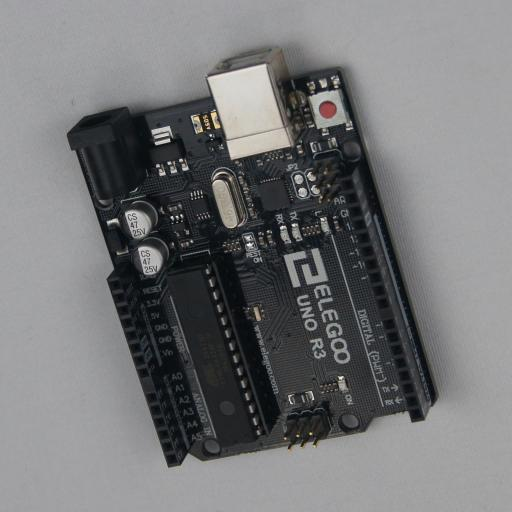Arduino Uno -Black-: (67, 48, 439, 468)
